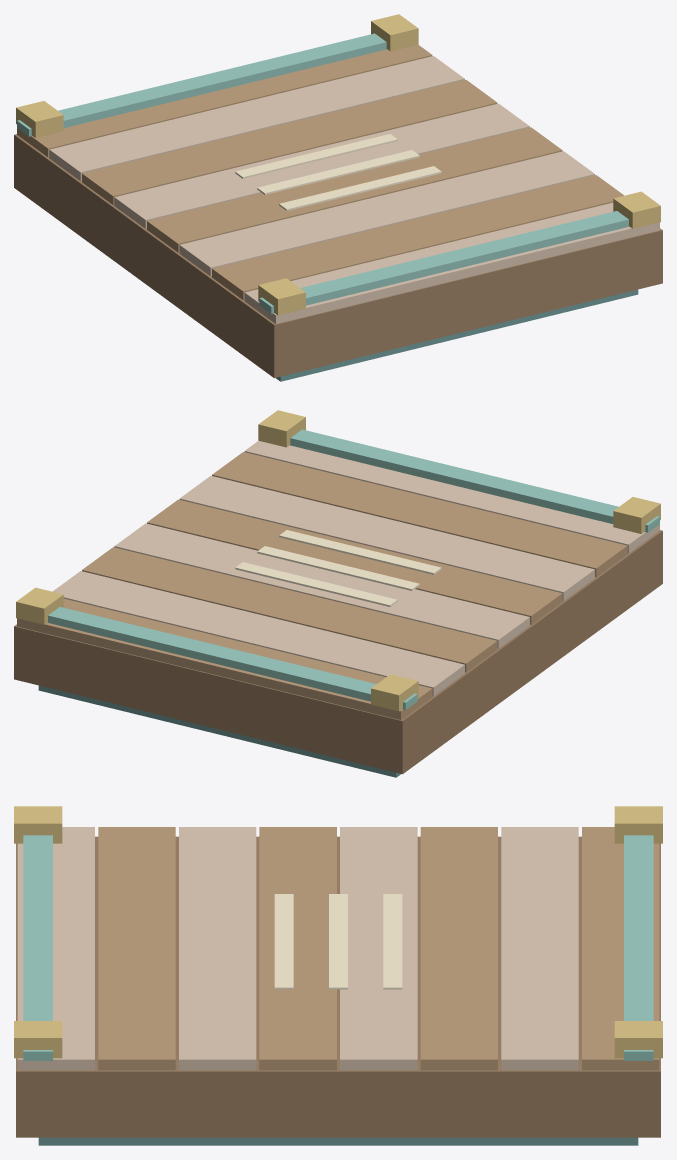
File: DeliveryBarge02.glb
3 views of the same model, one above another, from view 1: azimuth 30°, elevation 25°; view 2: azimuth 150°, elevation 25°; view 3: azimuth 270°, elevation 25° (orthographic). The views are drawn at different scales.
Parts seen in each view (by area): view 1: DeliveryBarge02; view 2: DeliveryBarge02; view 3: DeliveryBarge02.
Boxes of the visible parts, x1,y1,x2,y2 form: DeliveryBarge02: [14, 14, 662, 381]; DeliveryBarge02: [14, 410, 662, 777]; DeliveryBarge02: [14, 806, 662, 1145].
Bounding box in the file's own units: 2.76 × 0.63 × 3.22.
